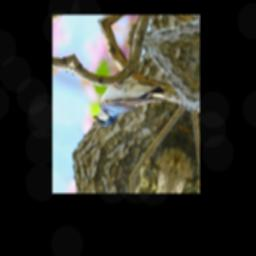Swallow: (91, 57, 173, 148)
